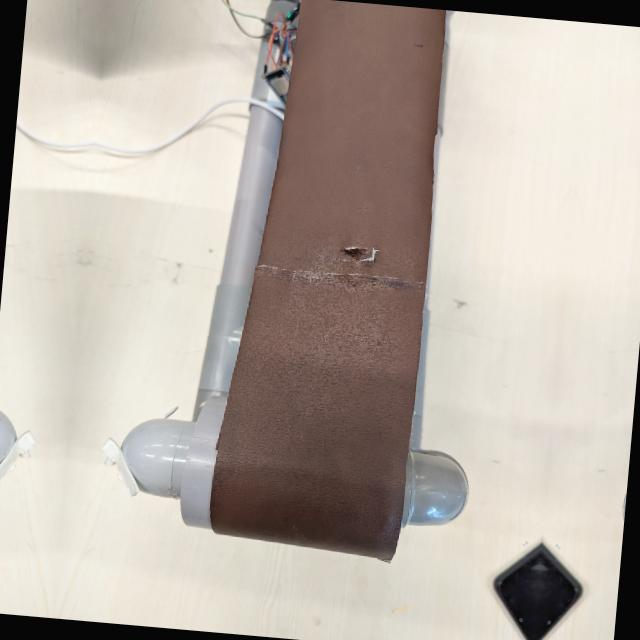joint_damage: (313, 224, 400, 279)
